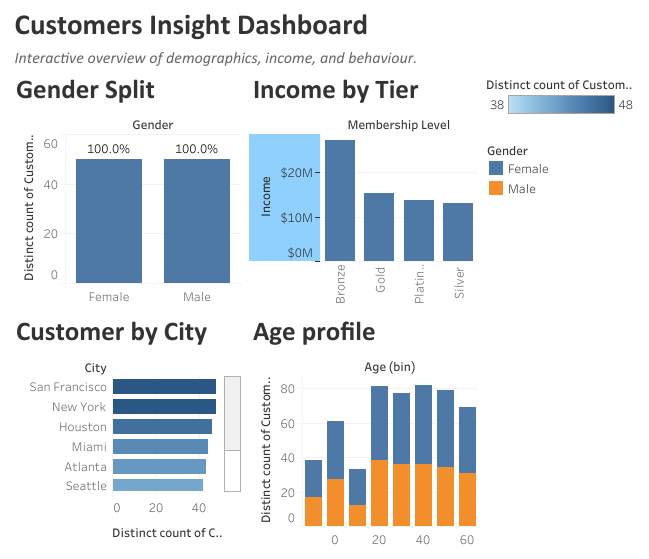

The dashboard page shown, as its layout file describes it:
{"tool":"tableau","page":{"name":"Dashboard 1","canvas":[650,860],"ordinal":0},"visuals":[{"type":"title","box":[8,12.3,634,98.3]},{"type":"worksheet","title":"Gender Split","mark":"Automatic","rows":["CustomerID"],"cols":["Gender"],"box":[8,110.6,237,368.6]},{"type":"worksheet","title":"Income by Tier","mark":"Automatic","rows":["Income"],"cols":["MembershipLevel"],"box":[245,110.6,237,368.6]},{"type":"legend","title":"Customer by City","param":"[federated.10q5c871n4s2do12qpywn0aha3xo].[ctd:CustomerID:qk]","box":[482,110.6,160,99.8]},{"type":"legend","title":"Age Profile","param":"[federated.10q5c871n4s2do12qpywn0aha3xo].[none:Gender:nk]","box":[482,210.4,160,101.4]},{"type":"worksheet","title":"Customer by City","mark":"Automatic","rows":["City"],"cols":["CustomerID"],"box":[8,479.1,237,368.6]},{"type":"worksheet","title":"Age Profile","mark":"Automatic","rows":["CustomerID"],"cols":["Age (bin)"],"box":[245,479.1,237,368.6]}]}

Visuals, with their boxes on the page's 650x860 design canvas (x1, y1, x2, y2). These are canvas units, not pixel positions in the 649x559 screenshot, which may show the page scaled, cropped or inside an application window:
title: [8,12,642,111]
"Gender Split" worksheet: [8,111,245,479]
"Income by Tier" worksheet: [245,111,482,479]
"Customer by City" legend: [482,111,642,210]
"Age Profile" legend: [482,210,642,312]
"Customer by City" worksheet: [8,479,245,848]
"Age Profile" worksheet: [245,479,482,848]
